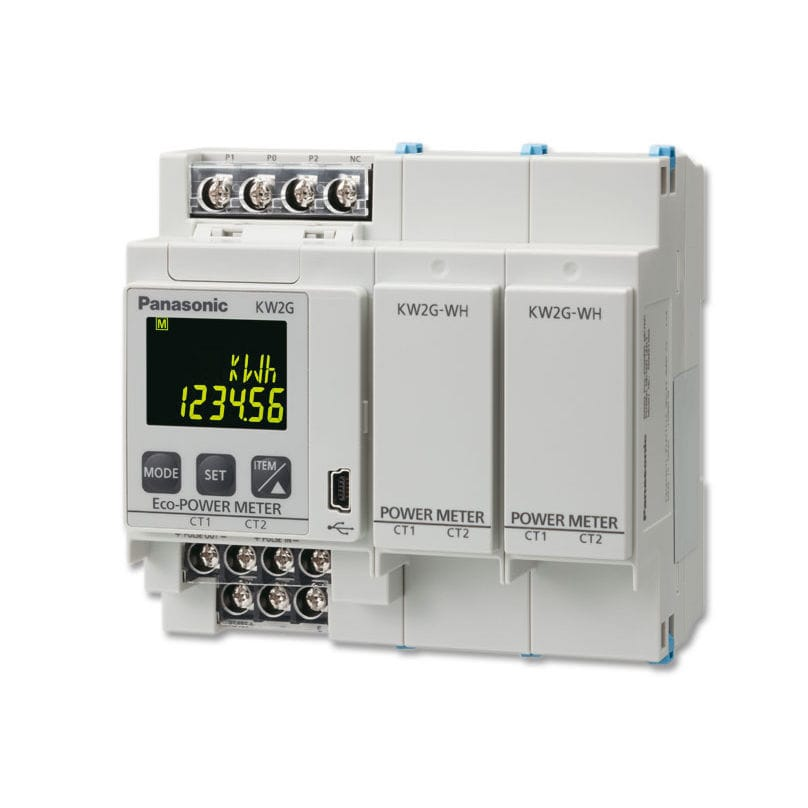counter: (114, 136, 706, 664)
counter_screen: (141, 312, 292, 433)
